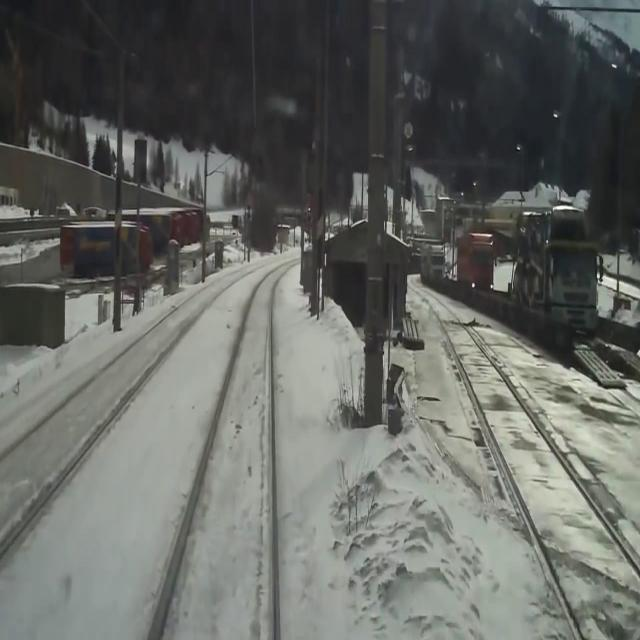rail-track: (408, 280, 640, 639), (0, 260, 274, 546), (154, 259, 300, 639)
